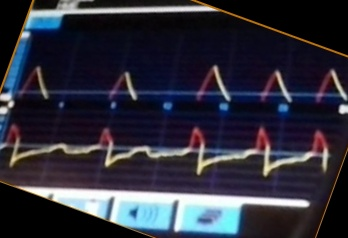Ineffective_effort Flow: (3, 120, 331, 179)
Ineffective_effort Volume: (19, 59, 347, 102)
